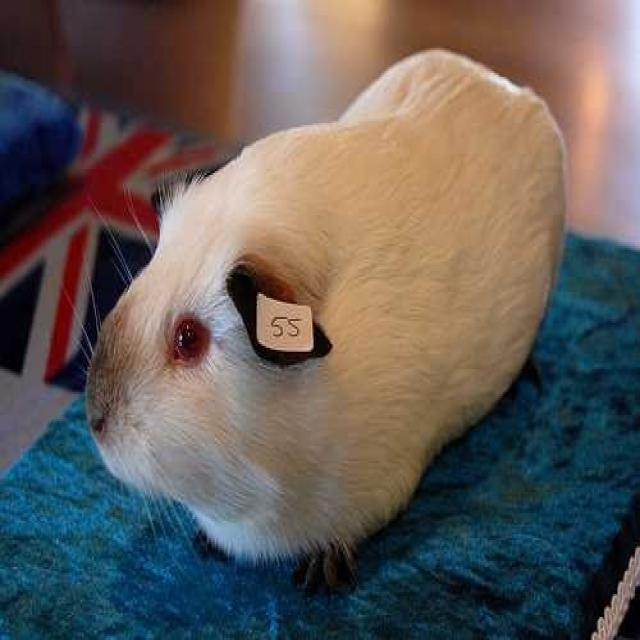guinea pig: (87, 44, 562, 580)
